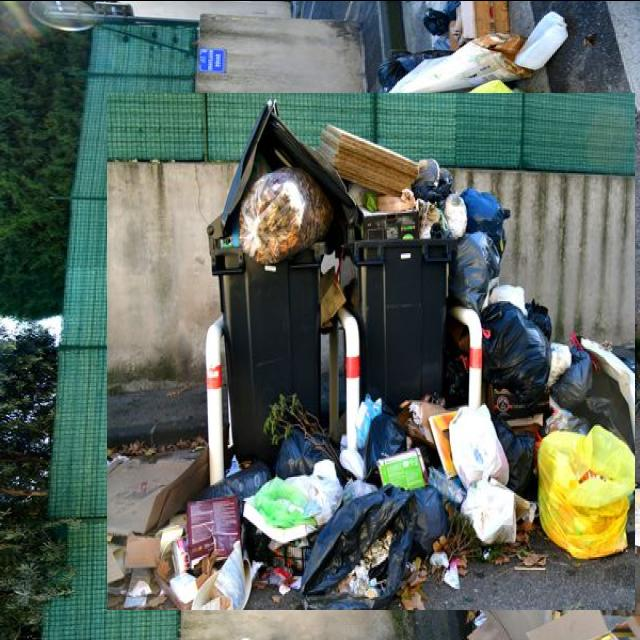garbage: (109, 89, 632, 612)
